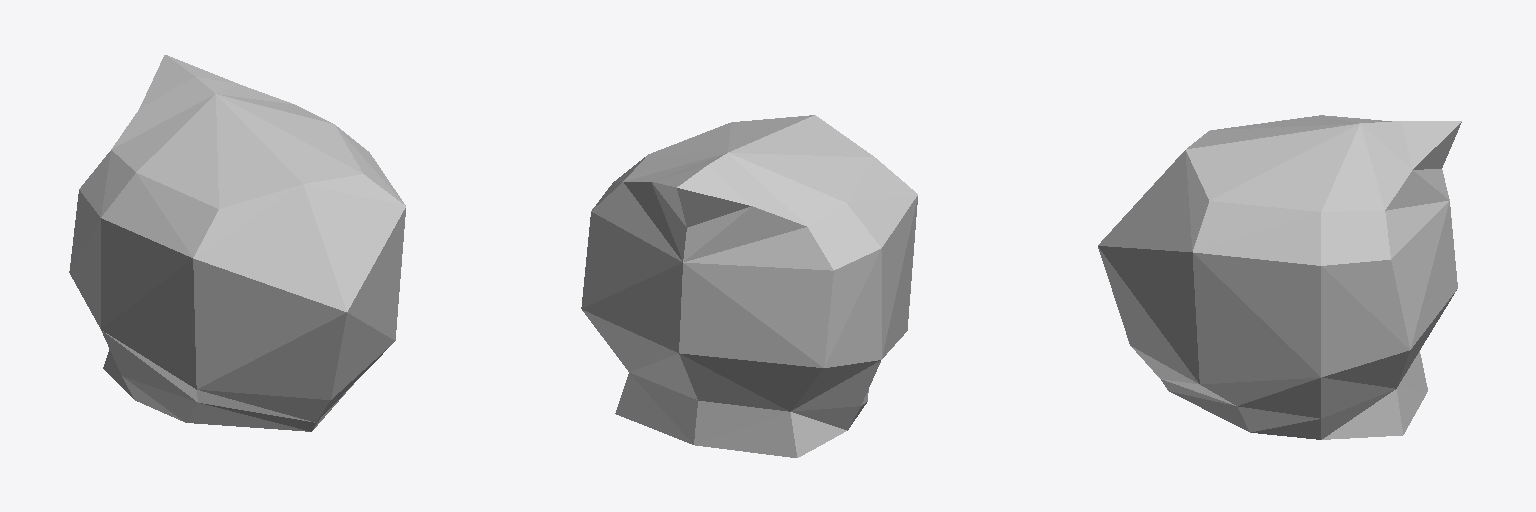
The model's file is Enemy.obj.
The picture shows the model from 3 angles: view 1: azimuth 30°, elevation 25°; view 2: azimuth 150°, elevation 25°; view 3: azimuth 270°, elevation 25°; orthographic projection.
Visible parts, largest first — view 1: Cube.001; view 2: Cube.001; view 3: Cube.001.
Boxes of the visible parts, box(x1,y1,x2,y2) form: Cube.001: box(69, 55, 405, 431); Cube.001: box(581, 115, 917, 457); Cube.001: box(1098, 115, 1461, 439).
Bounding box in the file's own units: 0.886 × 0.8504 × 1.04.